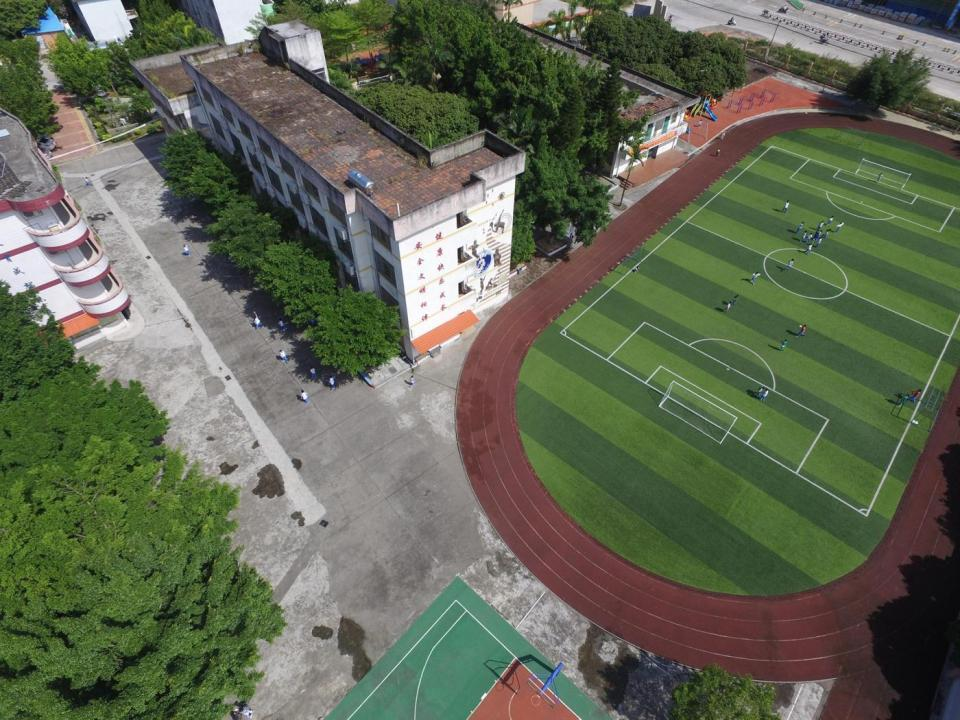car: (30, 136, 55, 150), (32, 148, 52, 160)
